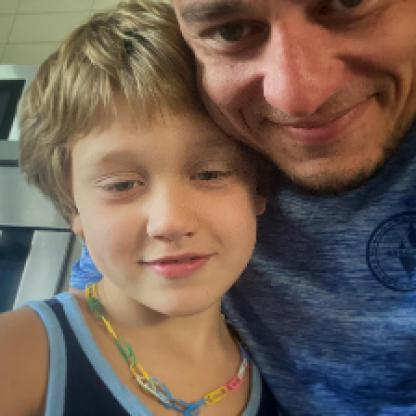child: (1, 1, 282, 416)
